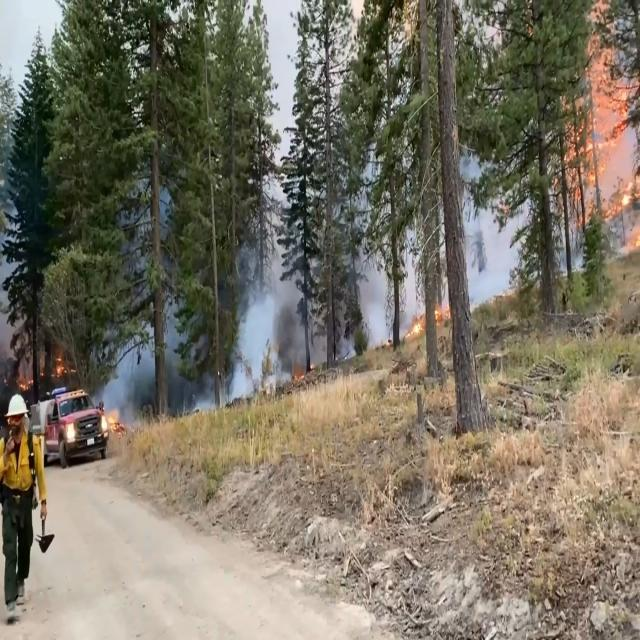Fire: (566, 0, 640, 275)
